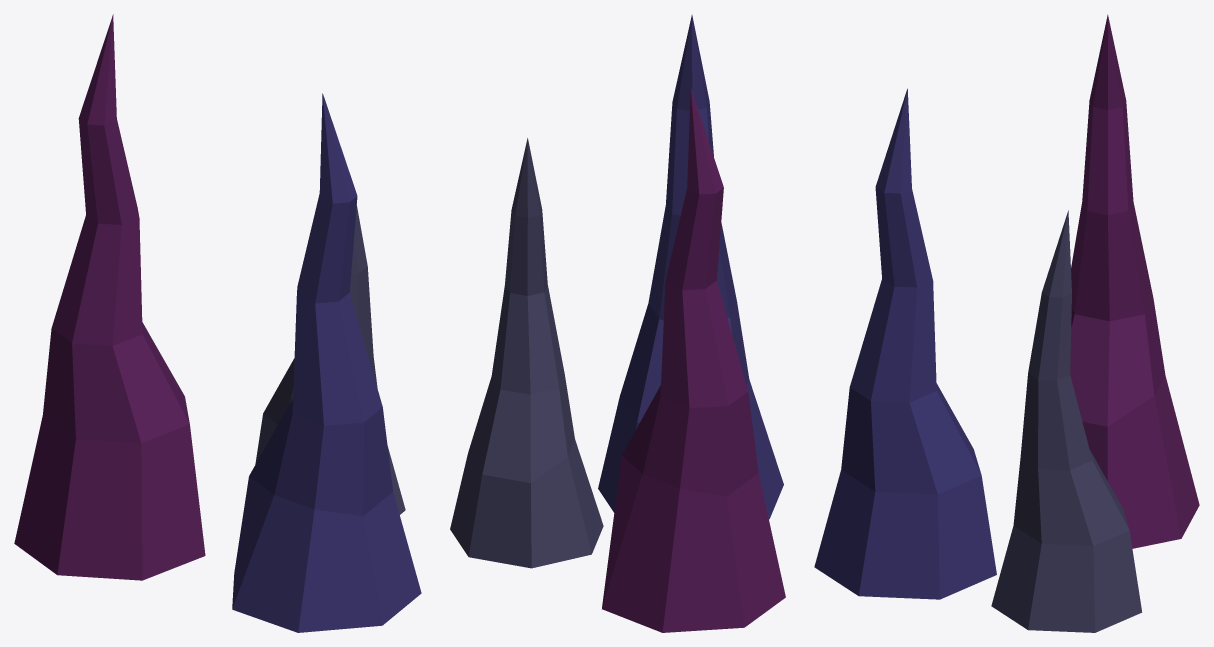
File: VL_Plant012.fbx
3 renders of one model, left to right at view 1: azimuth 30°, elevation 25°; view 2: azimuth 150°, elevation 25°; view 3: azimuth 270°, elevation 25°, orthographic. The views are drawn at different scales.
Visible parts, largest first — view 1: VL_Plant012; view 2: VL_Plant012; view 3: VL_Plant012.
Boxes of the visible parts, x1,y1,x2,y2 form: VL_Plant012: (14,14,421,632); VL_Plant012: (450,14,785,632); VL_Plant012: (814,14,1199,632).
Size of the model in its own units: 26.87 by 40.49 by 28.28.
1 material, 1 textured.
